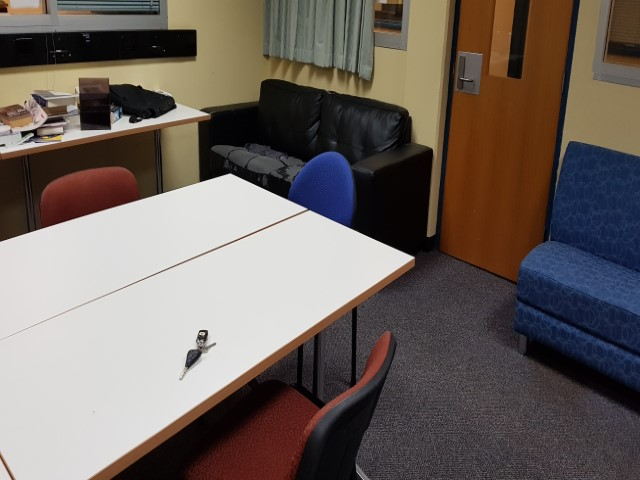key: (178, 349, 201, 381)
